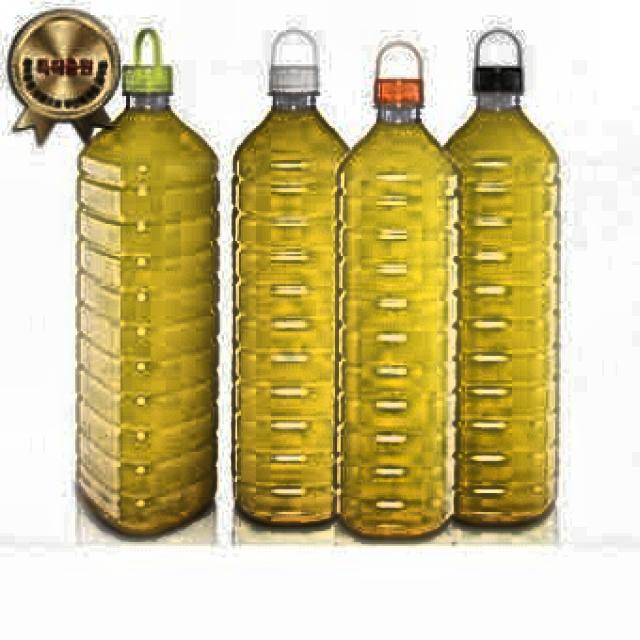Bottles: (175, 46, 373, 542), (49, 48, 226, 559), (332, 48, 473, 554), (448, 39, 572, 540)
